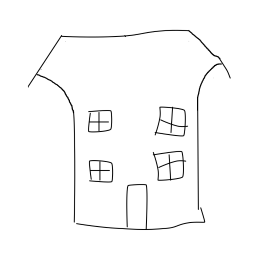closed_window: (149, 145, 195, 184), (150, 105, 193, 141), (81, 106, 116, 138), (86, 154, 116, 187)
door: (122, 181, 156, 236)
single_line_roof: (22, 26, 239, 94)
wall: (59, 90, 206, 233)
